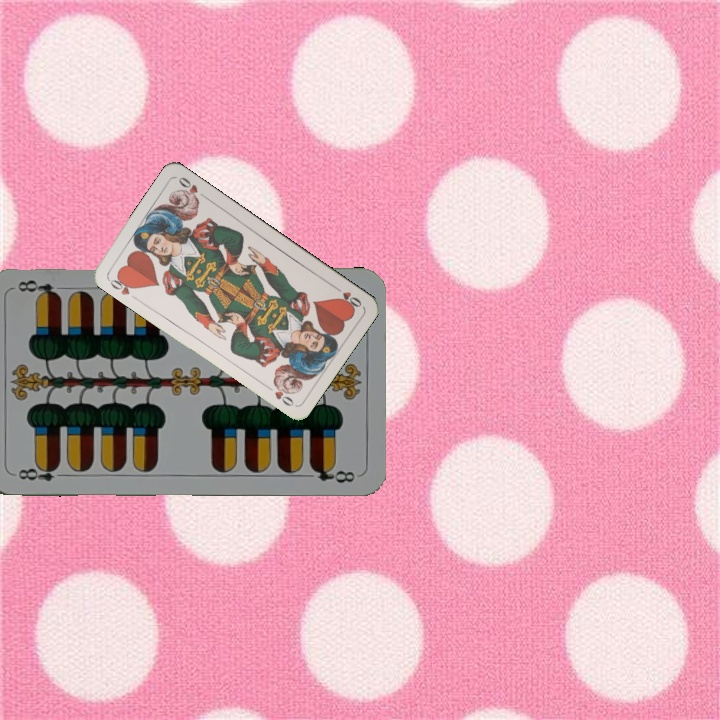E8: (15, 461, 70, 484)
HO: (329, 281, 364, 311), (104, 271, 139, 298)
